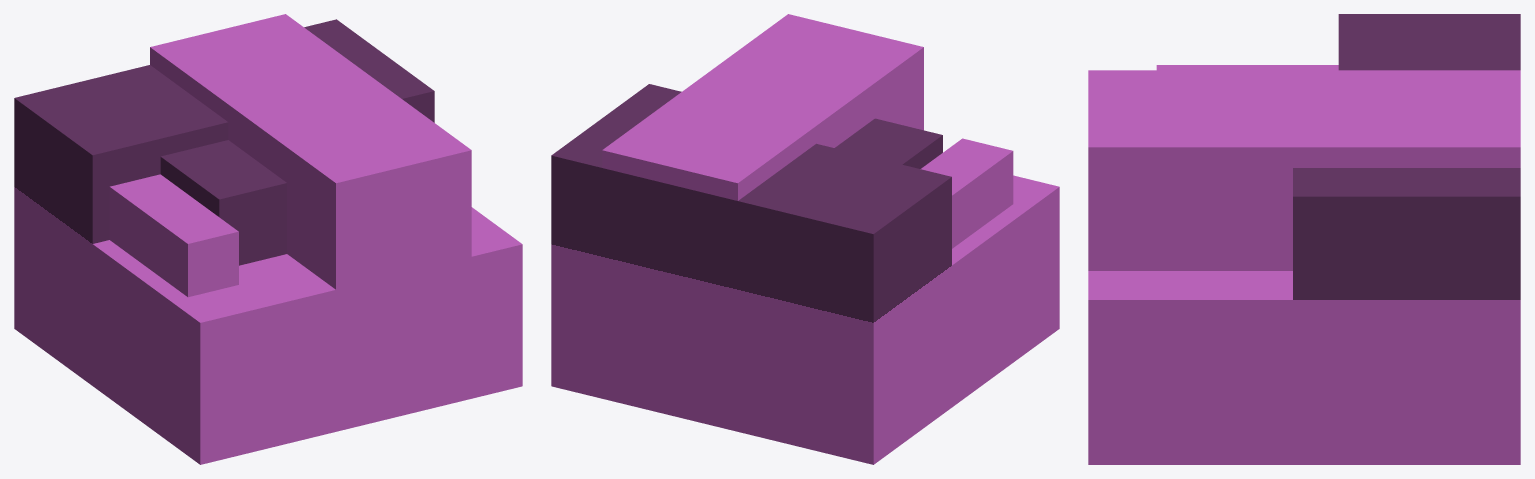
Rendered from Rocks1.dae.
The picture shows the model from 3 angles, left to right: view 1: azimuth 30°, elevation 25°; view 2: azimuth 150°, elevation 25°; view 3: azimuth 270°, elevation 25°; orthographic projection. The views are drawn at different scales.
Parts seen in each view (by area): view 1: Rocks1; view 2: Rocks1; view 3: Rocks1.
Boxes of the visible parts, x1,y1,x2,y2 form: Rocks1: (14, 14, 522, 464); Rocks1: (551, 14, 1059, 464); Rocks1: (1088, 14, 1520, 464).
Bounding box in the file's own units: 1.9 × 1.4 × 1.9.
Materials: 1 (1 with a texture image).
